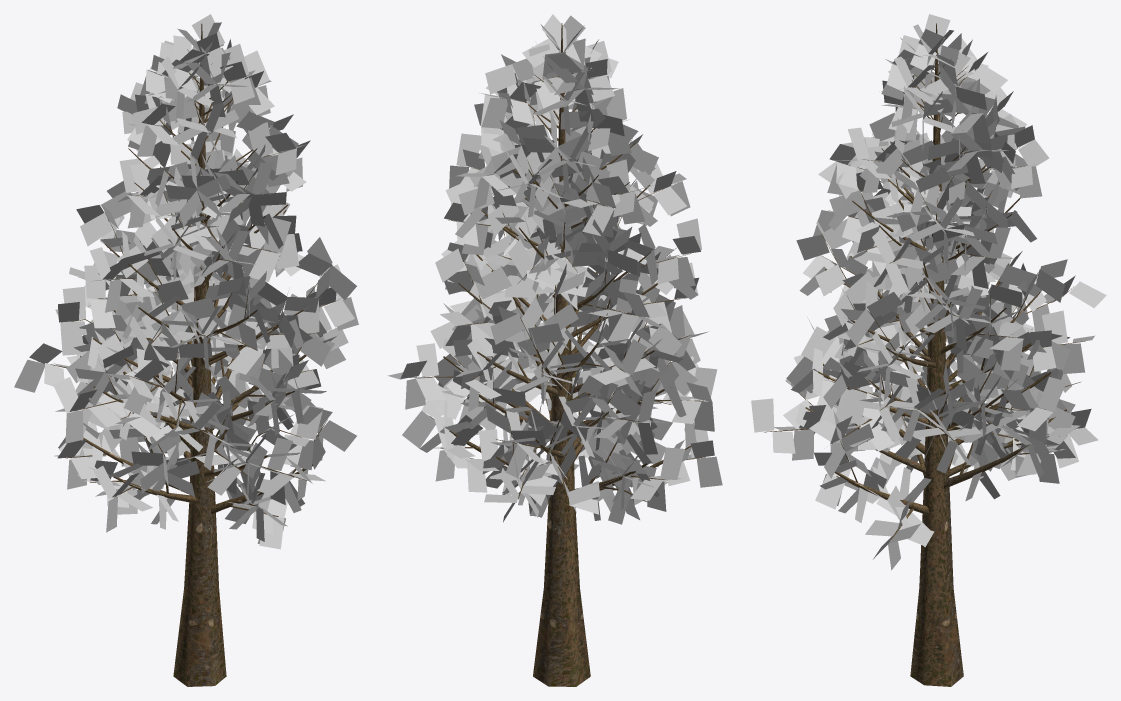
File: Tree_04.fbx
3 renders of one model, left to right at view 1: azimuth 30°, elevation 25°; view 2: azimuth 150°, elevation 25°; view 3: azimuth 270°, elevation 25°, orthographic.
Visible parts, largest first — view 1: LOD0; view 2: LOD0; view 3: LOD0.
Boxes of the visible parts, x1,y1,x2,y2 form: LOD0: (14, 14, 358, 686); LOD0: (387, 14, 722, 686); LOD0: (751, 14, 1106, 686).
Size of the model in its own units: 502 by 1128 by 556.
